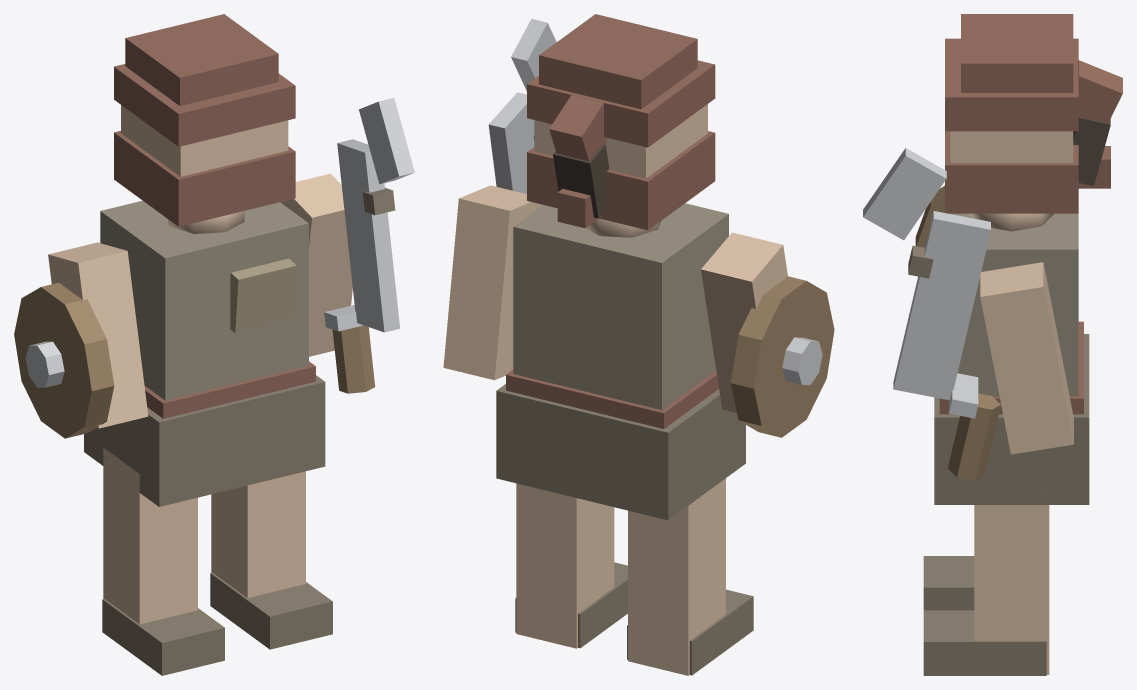
Rendered from troop-bandit.glb.
3 renders of one model, left to right at view 1: azimuth 30°, elevation 25°; view 2: azimuth 150°, elevation 25°; view 3: azimuth 270°, elevation 25°, orthographic. The views are drawn at different scales.
Visible parts, largest first — view 1: body, skirt, leg_l, buckler, leg_r, scarf_cap, face_mask, arm_l, scarf_band, dao_blade, arm_r, foot_l (+10 smaller); view 2: body, skirt, leg_l, leg_r, arm_r, buckler, scarf_cap, face_mask, arm_l, scarf_band, rope_belt, head (+9 smaller); view 3: arm_r, dao_blade, leg_r, skirt, body, scarf_cap, face_mask, scarf_band, foot_r, dao_tip, head, foot_l (+9 smaller).
Part boxes in pixels (left/top/right/bottom): body: left=100, top=200, right=308, bottom=400; skirt: left=84, top=375, right=325, bottom=506; leg_l: left=103, top=447, right=197, bottom=624; buckler: left=14, top=282, right=114, bottom=438; leg_r: left=211, top=471, right=305, bottom=597; scarf_cap: left=125, top=14, right=278, bottom=105; face_mask: left=114, top=130, right=295, bottom=226; arm_l: left=48, top=242, right=148, bottom=428; scarf_band: left=114, top=64, right=295, bottom=146; dao_blade: left=337, top=139, right=399, bottom=332; arm_r: left=280, top=173, right=352, bottom=356; foot_l: left=102, top=599, right=224, bottom=675; body: left=513, top=203, right=728, bottom=409; skirt: left=496, top=384, right=745, bottom=520; leg_l: left=628, top=478, right=725, bottom=675; leg_r: left=516, top=483, right=614, bottom=648; arm_r: left=443, top=185, right=540, bottom=380; buckler: left=731, top=276, right=834, bottom=437; scarf_cap: left=539, top=14, right=697, bottom=109; face_mask: left=527, top=131, right=715, bottom=230; arm_l: left=701, top=232, right=787, bottom=412; scarf_band: left=527, top=60, right=715, bottom=147; rope_belt: left=506, top=369, right=718, bottom=428; head: left=534, top=104, right=707, bottom=178; arm_r: left=980, top=262, right=1073, bottom=454; dao_blade: left=893, top=211, right=990, bottom=400; leg_r: left=974, top=492, right=1049, bottom=674; skirt: left=934, top=334, right=1089, bottom=504; body: left=949, top=213, right=1078, bottom=396; scarf_cap: left=961, top=14, right=1073, bottom=92; face_mask: left=945, top=131, right=1078, bottom=213; scarf_band: left=945, top=38, right=1078, bottom=131; foot_r: left=923, top=610, right=1046, bottom=675; dao_tip: left=863, top=148, right=946, bottom=240; head: left=950, top=131, right=1073, bottom=162; foot_l: left=923, top=556, right=974, bottom=610.
Size of the model in its own units: 0.148 by 0.245 by 0.0971.
